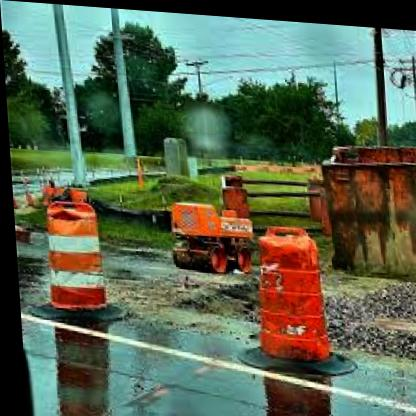obstacle: (242, 220, 332, 358), (38, 200, 103, 312)
